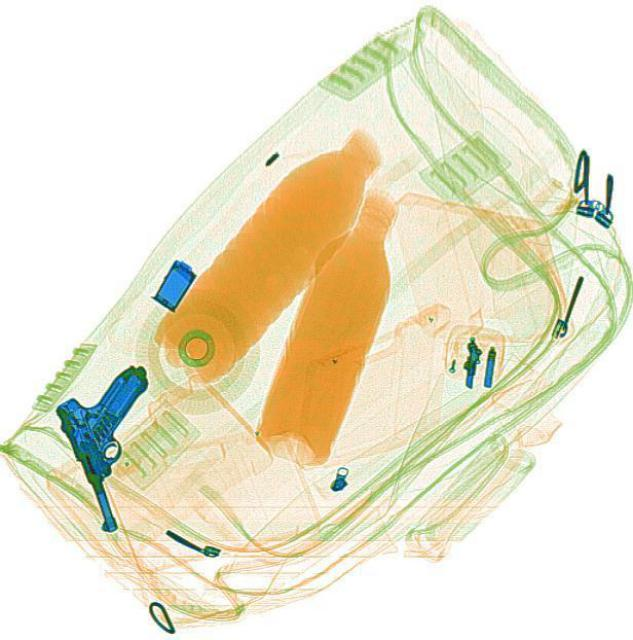Gun: (46, 359, 196, 537)
